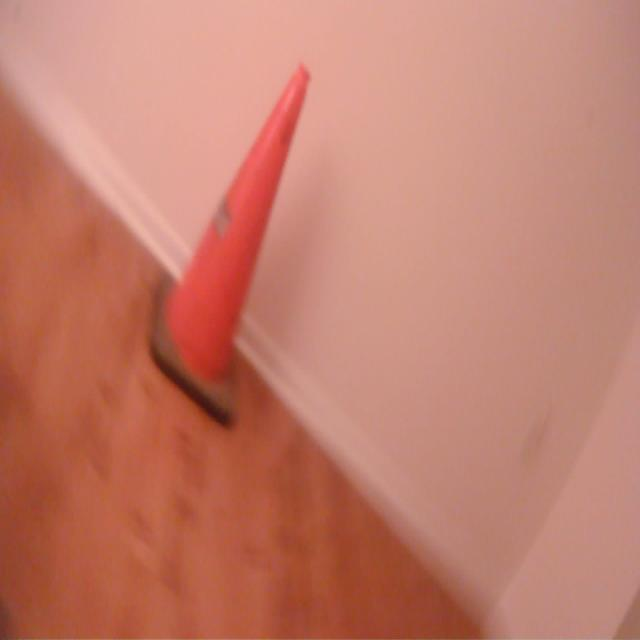traffic cone: (147, 54, 314, 434)
